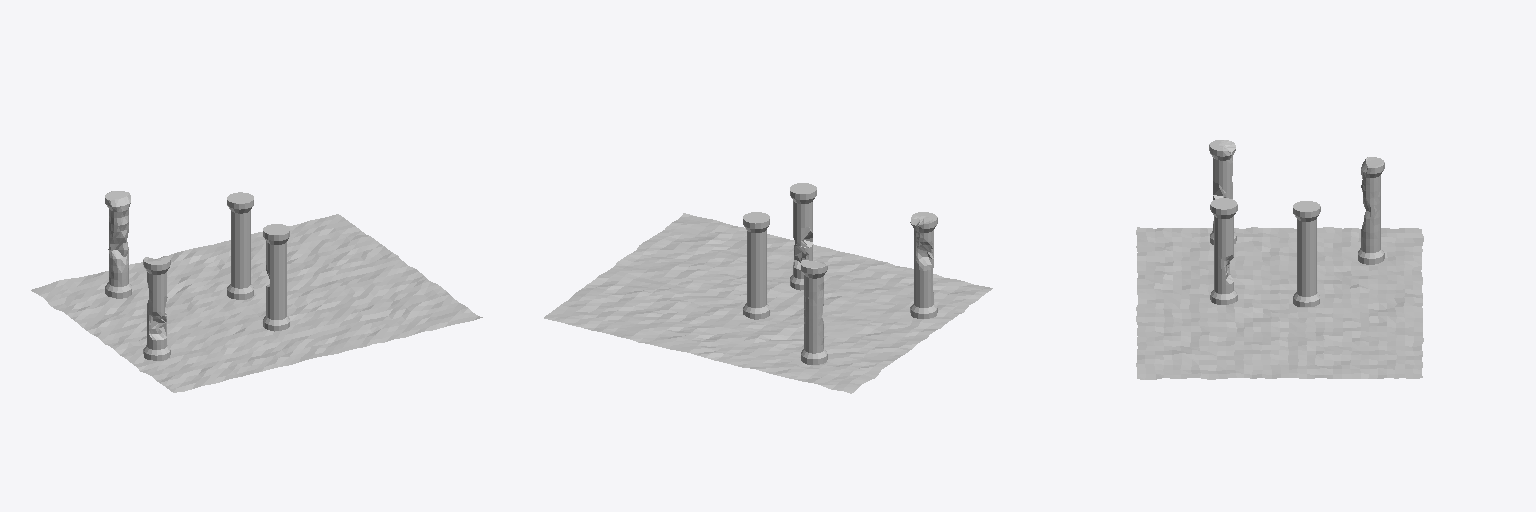
File: Pilastra 2.obj
3 renders of one model, left to right at view 1: azimuth 30°, elevation 25°; view 2: azimuth 150°, elevation 25°; view 3: azimuth 270°, elevation 25°, orthographic.
Visible parts, largest first — view 1: Grama_Plane.001, Pilastra_1_Cylinder.001, Pilastra_3_Cylinder, Pilastra_3.001_Cylinder.026, Pilastra_2_Cylinder.002; view 2: Grama_Plane.001, Pilastra_3_Cylinder, Pilastra_2_Cylinder.002, Pilastra_3.001_Cylinder.026, Pilastra_1_Cylinder.001; view 3: Grama_Plane.001, Pilastra_3_Cylinder, Pilastra_1_Cylinder.001, Pilastra_3.001_Cylinder.026, Pilastra_2_Cylinder.002.
Part boxes in pixels (x1,y1,x2,y2): Grama_Plane.001: (31,214,482,392); Pilastra_1_Cylinder.001: (263,224,289,331); Pilastra_3_Cylinder: (227,192,253,299); Pilastra_3.001_Cylinder.026: (105,191,131,298); Pilastra_2_Cylinder.002: (143,256,170,360); Grama_Plane.001: (544,213,992,393); Pilastra_3_Cylinder: (743,212,769,319); Pilastra_2_Cylinder.002: (910,212,937,318); Pilastra_3.001_Cylinder.026: (801,260,827,364); Pilastra_1_Cylinder.001: (790,183,816,290); Grama_Plane.001: (1136,227,1423,379); Pilastra_3_Cylinder: (1293,201,1320,306); Pilastra_1_Cylinder.001: (1210,198,1237,304); Pilastra_3.001_Cylinder.026: (1358,157,1384,264); Pilastra_2_Cylinder.002: (1209,140,1236,244).
Size of the model in its own units: 34.63 by 10.45 by 27.72.